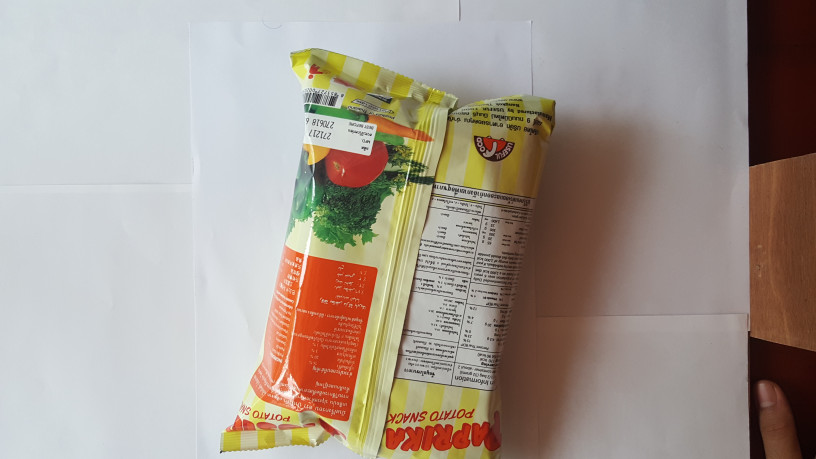paprika: (224, 41, 565, 459)
